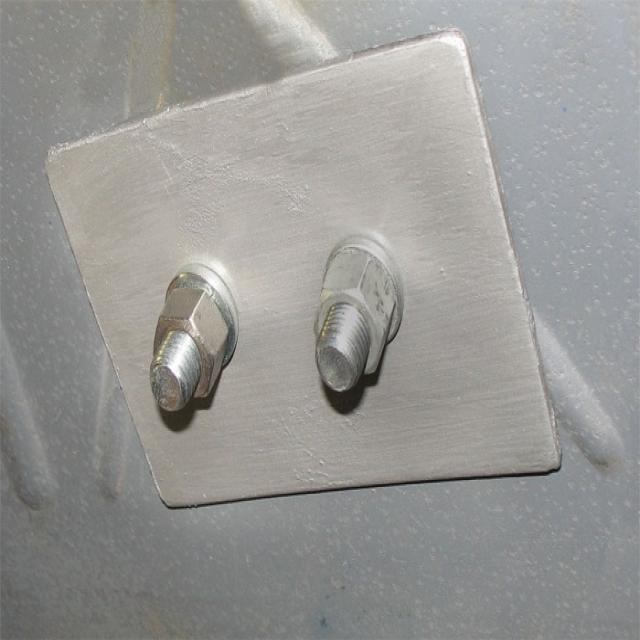bolt nut: (314, 247, 398, 383), (150, 284, 229, 404)
